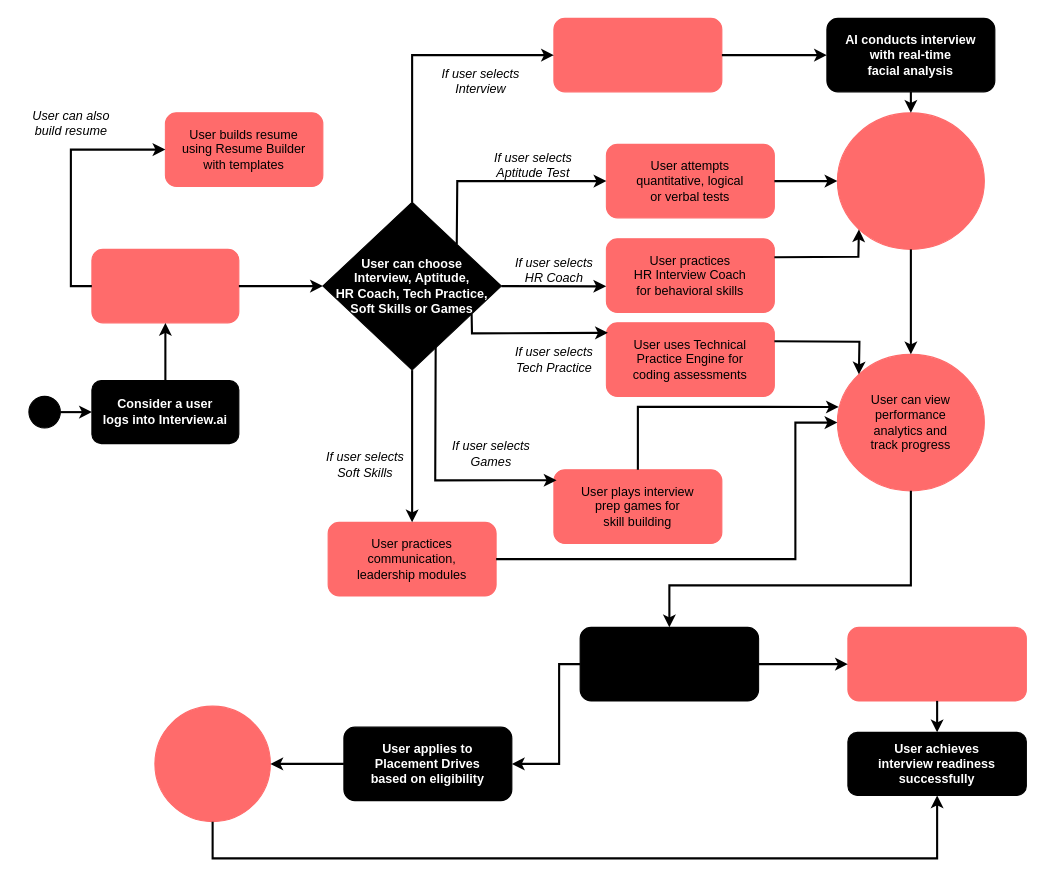
This 1045x886 diagram has some shape labels left out. The box of each missing label's shape, as (x1, y1, x2, y2) in pixels:
User can explore Dream Company Station for target preparation: (579, 626, 759, 701)
User checks profile, uploads resume and sets target role: (91, 248, 239, 323)
User receives detailed feedback and improvement suggestions: (836, 112, 984, 249)
User receives notifications for new drives and updates: (154, 705, 270, 822)
User selects AI interviewer and starts interview session: (553, 17, 722, 92)
User uses Time Machine for career prediction and roadmap: (847, 626, 1026, 701)
